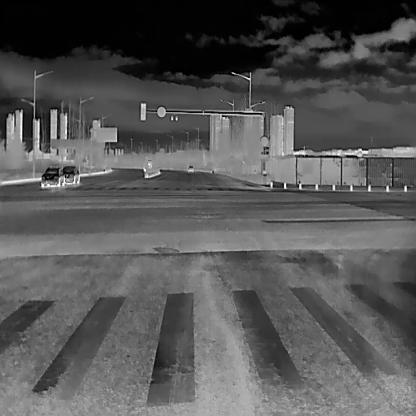car: (41, 166, 65, 186), (61, 164, 80, 185), (186, 164, 194, 172)
crosswalk: (0, 279, 416, 416)
